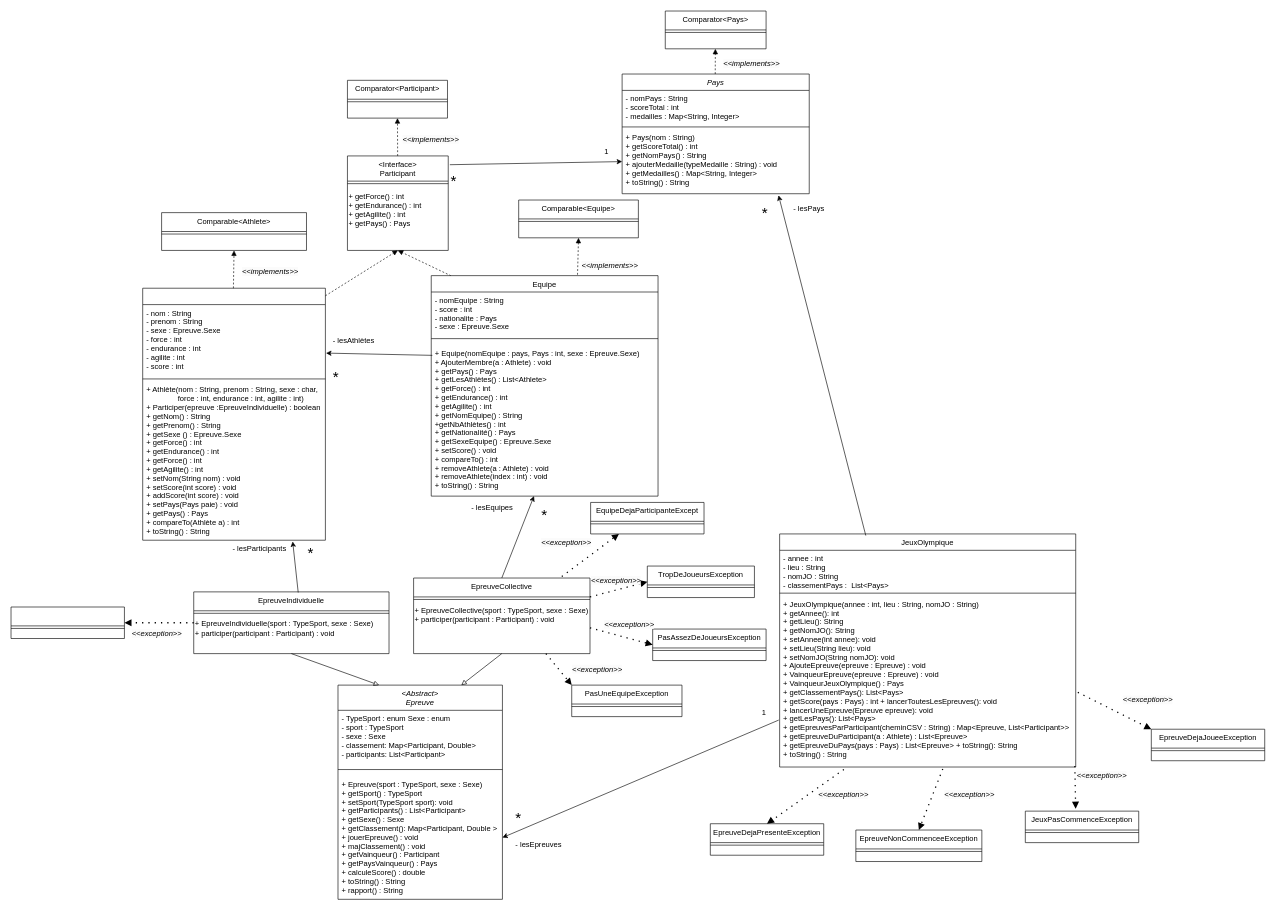
This 1276x912 diagram has some shape labels left out. Each missing label, with the box of its shape:
Athlete: (142, 288, 325, 540)
ParticipantDejaPresentException: (10, 606, 124, 639)
